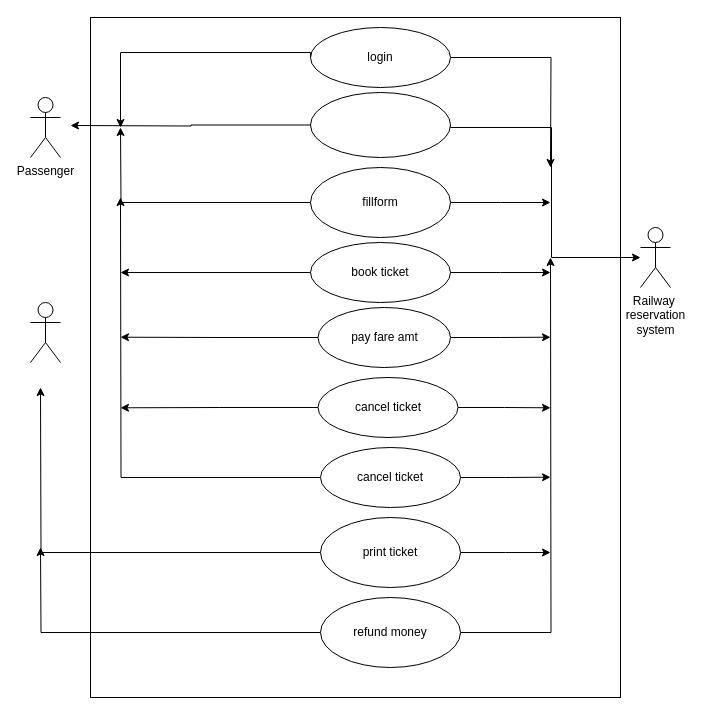
The diagram is 702 pixels wide and 715 high, and some of its shapes have lost their labels. Here are the shapes that lost their labels. From the top down, the centre of each, then its label:
At (x=380, y=125): "ticket availability".
At (x=45, y=332): "Admin".
